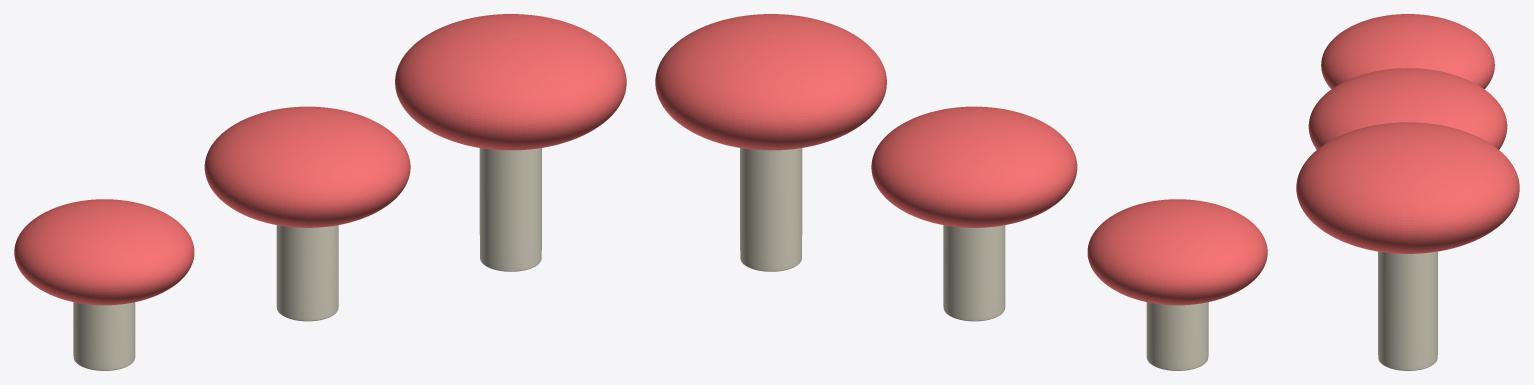
Rendered from Toy_MushroomSteps_Hi_2127.fbx.
3 renders of one model, left to right at view 1: azimuth 30°, elevation 25°; view 2: azimuth 150°, elevation 25°; view 3: azimuth 270°, elevation 25°, orthographic. The views are drawn at different scales.
Parts seen in each view (by area): view 1: Sphere.012, Sphere.006, Sphere, Cylinder.002, Cylinder.001, Cylinder; view 2: Sphere.012, Sphere.006, Sphere, Cylinder.002, Cylinder.001, Cylinder; view 3: Sphere.012, Sphere.006, Sphere, Cylinder.002.
Part boxes in pixels (box(x1,y1,x2,y2)): Sphere.012: box(395, 14, 626, 150); Sphere.006: box(204, 106, 410, 227); Sphere: box(14, 199, 194, 305); Cylinder.002: box(479, 148, 541, 271); Cylinder.001: box(276, 225, 338, 321); Cylinder: box(73, 302, 135, 370); Sphere.012: box(655, 14, 886, 150); Sphere.006: box(871, 106, 1077, 227); Sphere: box(1087, 199, 1267, 305); Cylinder.002: box(740, 148, 802, 271); Cylinder.001: box(943, 225, 1005, 321); Cylinder: box(1146, 302, 1208, 370); Sphere.012: box(1296, 122, 1519, 253); Sphere.006: box(1308, 68, 1507, 149); Sphere: box(1321, 14, 1494, 88); Cylinder.002: box(1378, 251, 1437, 370).
Bounding box in the file's own units: 2.59 × 0.952 × 0.8885.
